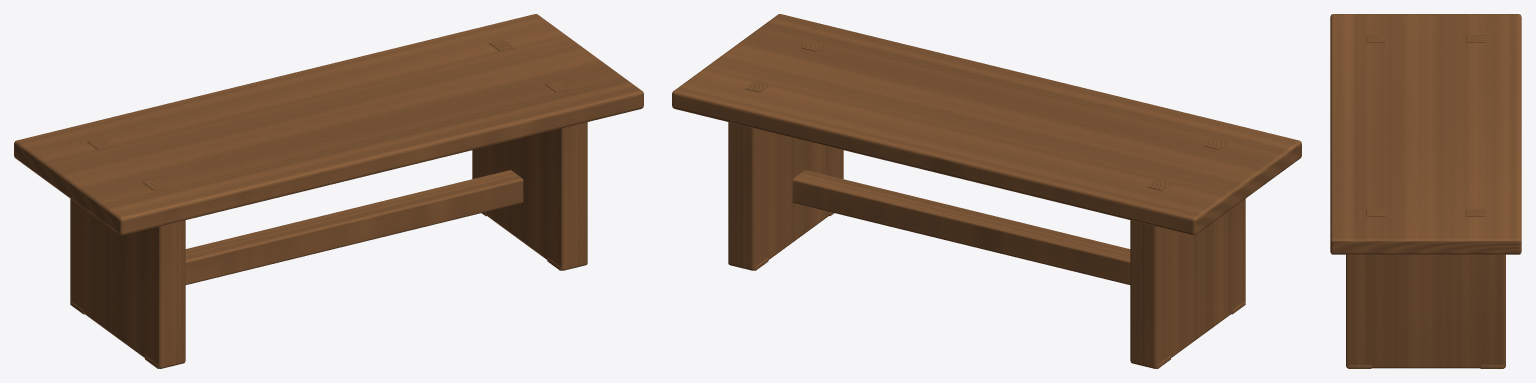
The model's file is source.glb.
3 views of the same model, side by side, from view 1: azimuth 30°, elevation 25°; view 2: azimuth 150°, elevation 25°; view 3: azimuth 270°, elevation 25° (orthographic). The views are drawn at different scales.
Parts seen in each view (by area): view 1: Seat_solid_oak, Leg_-0.56, Longitudinal_stretcher, Leg_0.56; view 2: Seat_solid_oak, Leg_-0.56, Longitudinal_stretcher, Leg_0.56; view 3: Seat_solid_oak, Leg_0.56.
Part boxes in pixels (bbox=[...]): Seat_solid_oak: bbox=[14, 14, 643, 235]; Leg_-0.56: bbox=[70, 199, 185, 368]; Longitudinal_stretcher: bbox=[185, 170, 523, 284]; Leg_0.56: bbox=[472, 122, 587, 270]; Seat_solid_oak: bbox=[672, 14, 1301, 235]; Leg_-0.56: bbox=[1130, 199, 1245, 368]; Longitudinal_stretcher: bbox=[792, 170, 1130, 284]; Leg_0.56: bbox=[728, 122, 843, 270]; Seat_solid_oak: bbox=[1330, 14, 1521, 254]; Leg_0.56: bbox=[1346, 254, 1505, 368].
Size of the model in its own units: 1.46 by 0.4524 by 0.52.
2 materials, 2 textured.
